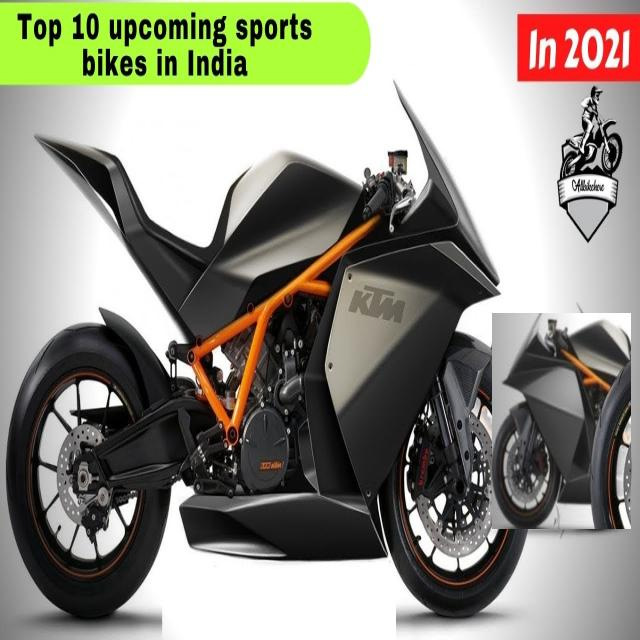motorcycle: (6, 91, 531, 616), (492, 313, 631, 529)
